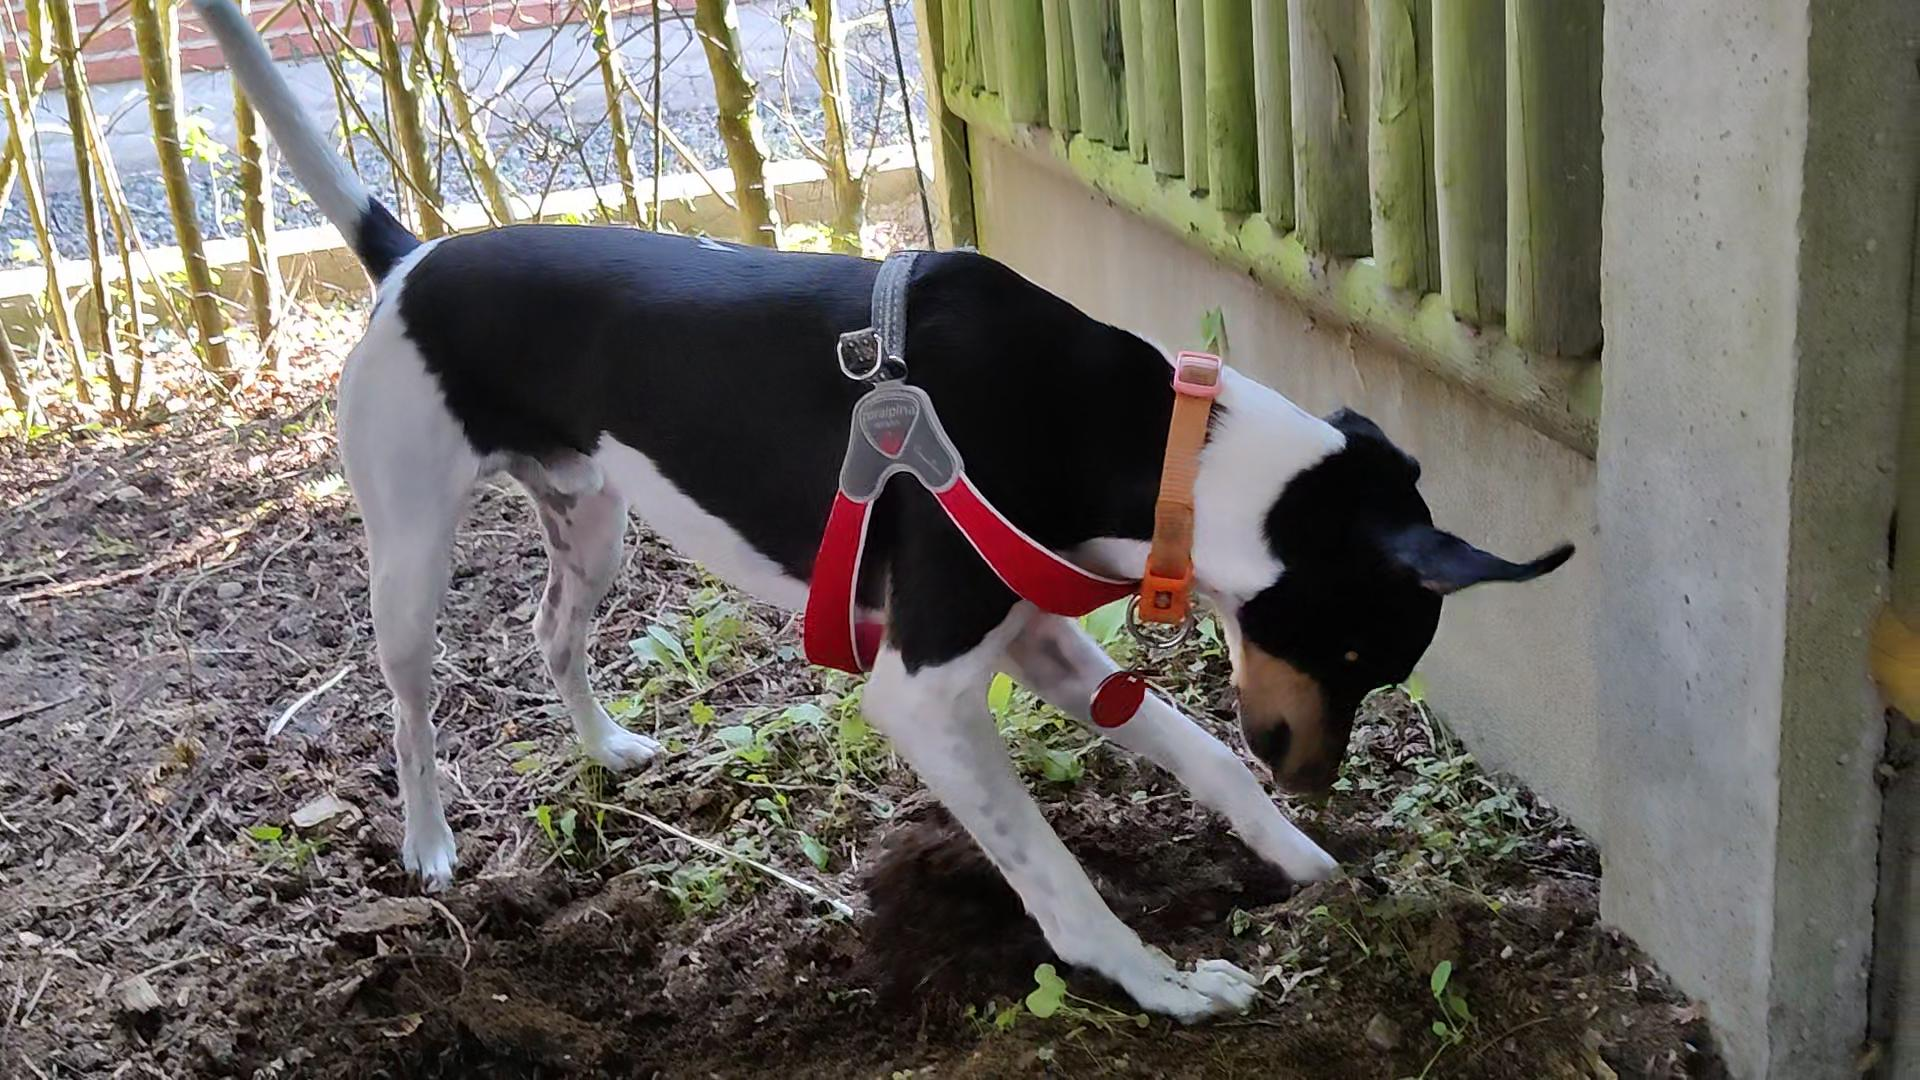Dog: (179, 0, 1592, 1033)
